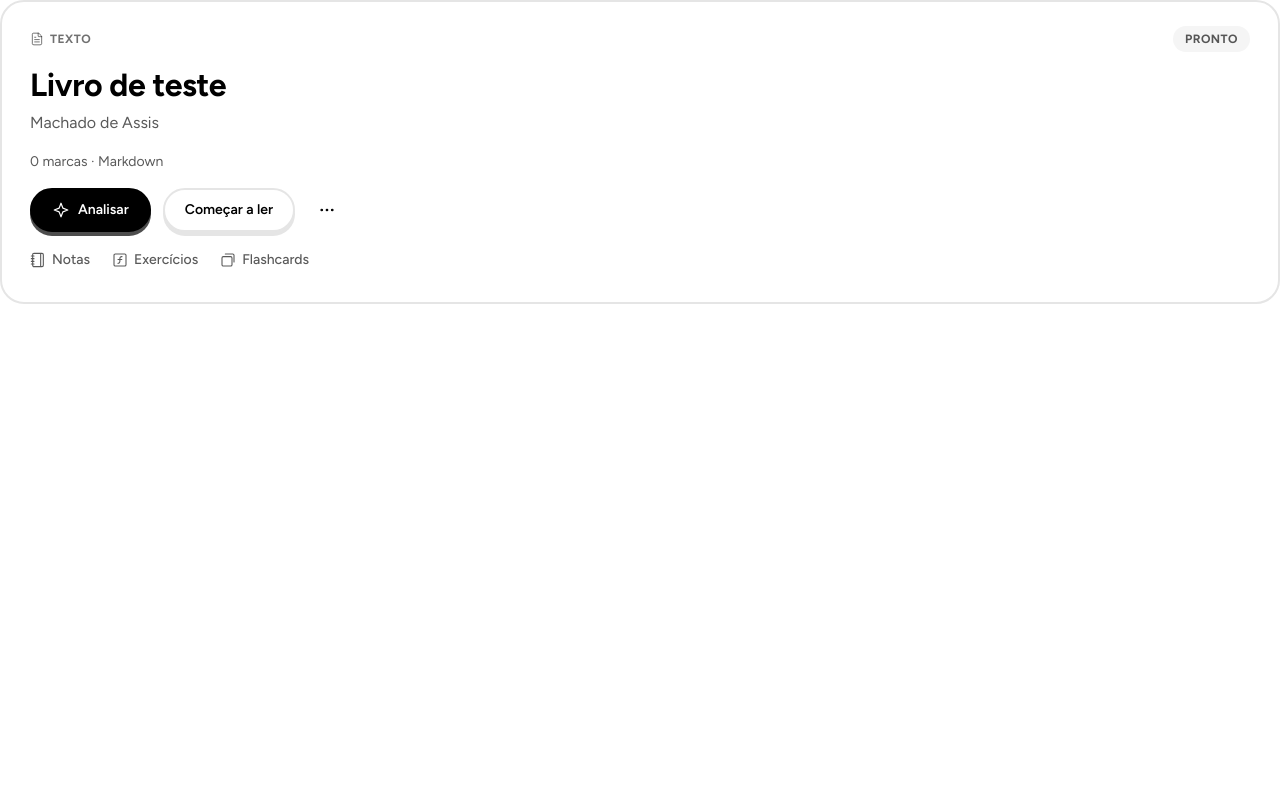
Test: as camadas de leitura ficam no Diagnóstico, com os lotes legados reunidos por modo e dia
Expected: the text "Importação legada · argumentativa · 20/09 · 11 lotes" is not shown
Click the button named "Opções do documento".
click(327, 210)  # box [307,190,347,230]
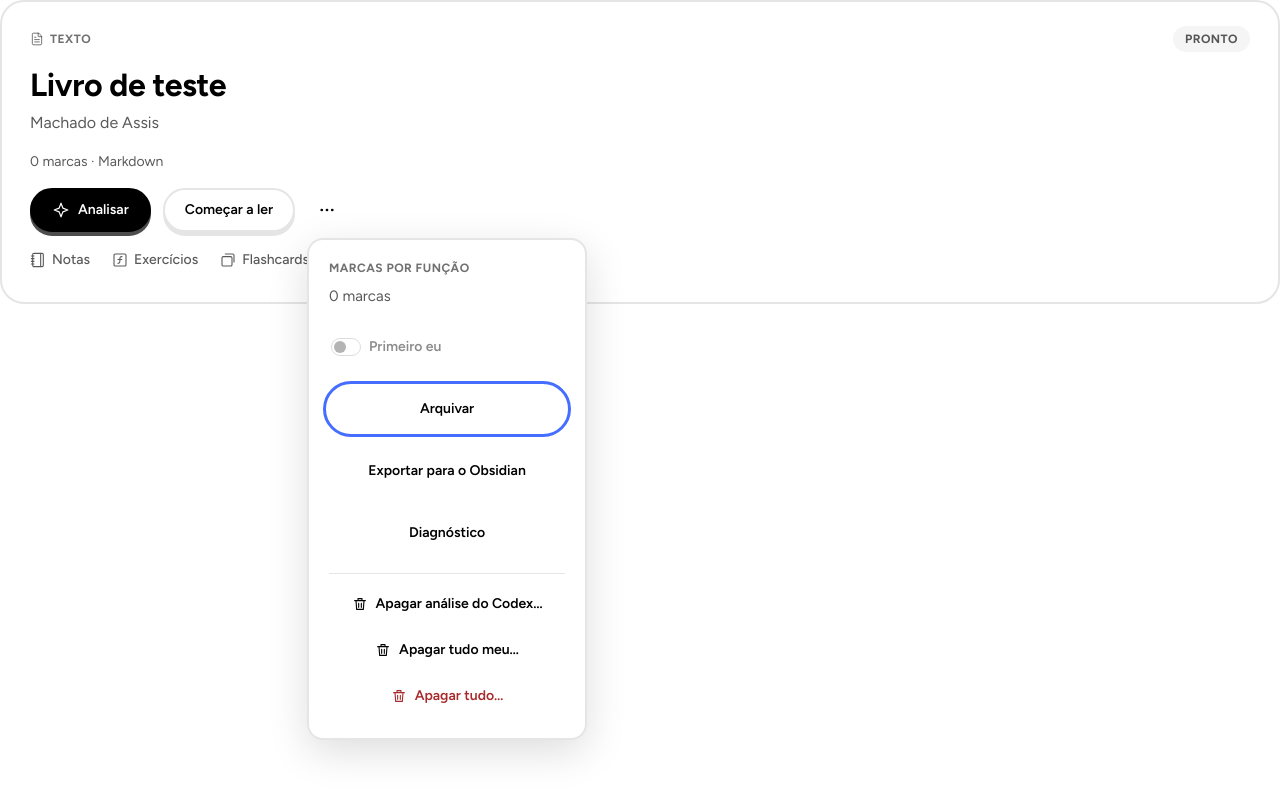
Click the button "Diagnóstico".
click(447, 534)  # box [329,512,565,556]
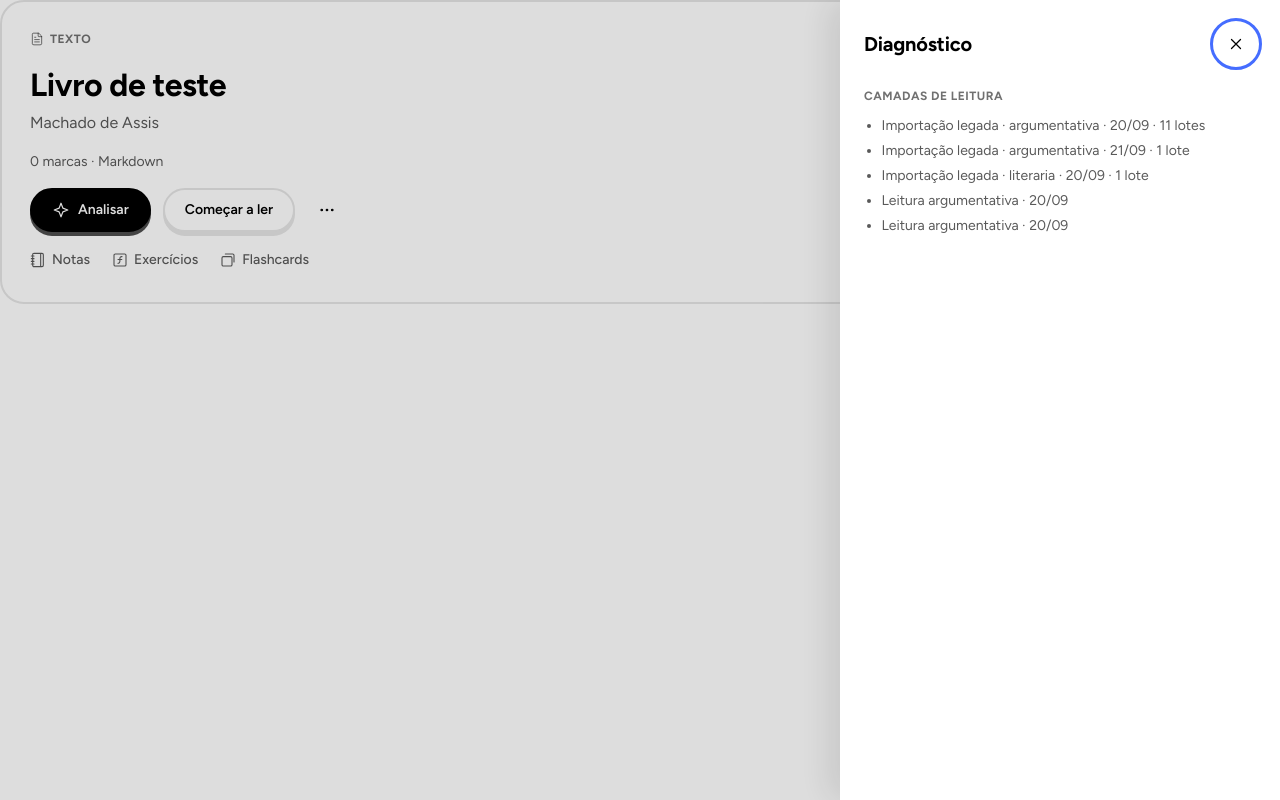
Now the list item "Importação legada · argumentativa · 20/09 · 11 lotes" is shown, box [882,115,1256,136]
Now the list item "Importação legada · argumentativa · 21/09 · 1 lote" is shown, box [882,142,1190,159]
Now the list item "Importação legada · literaria · 20/09 · 1 lote" is shown, box [882,167,1149,184]
